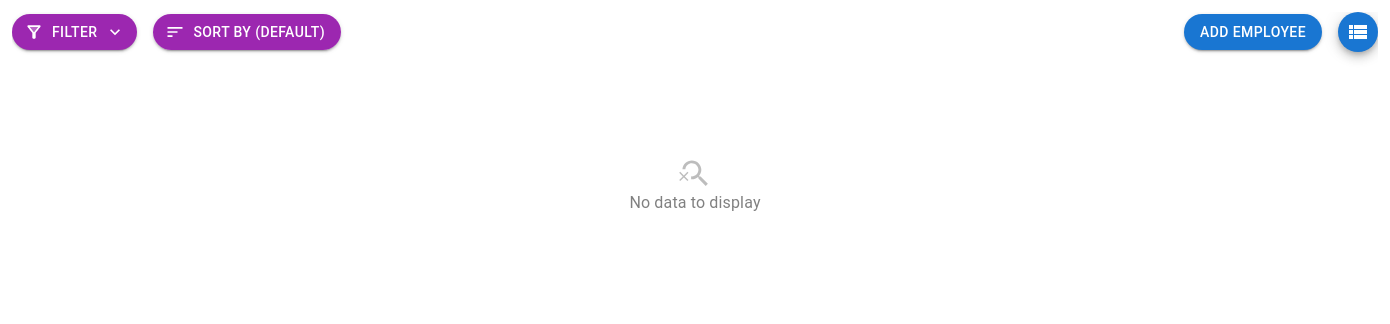
it: EmployeeHome › Filtering inputs visibility should be handled by Filter button click
This screenshot has width=1390, height=324.
Click the button "Filter". click: {"x": 75, "y": 32}
box: x1=12 y1=14 x2=137 y2=50
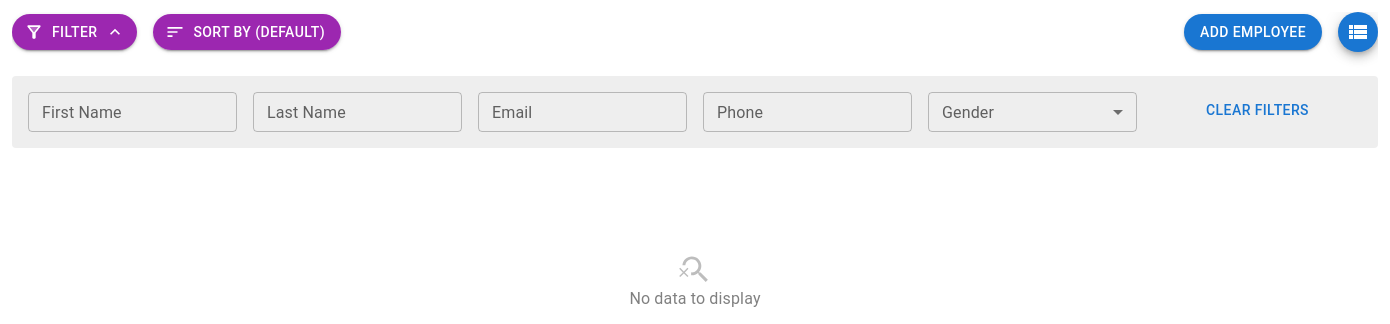
Expected: the element with test id "filter-bar" is shown, x1=12 y1=76 x2=1378 y2=148
